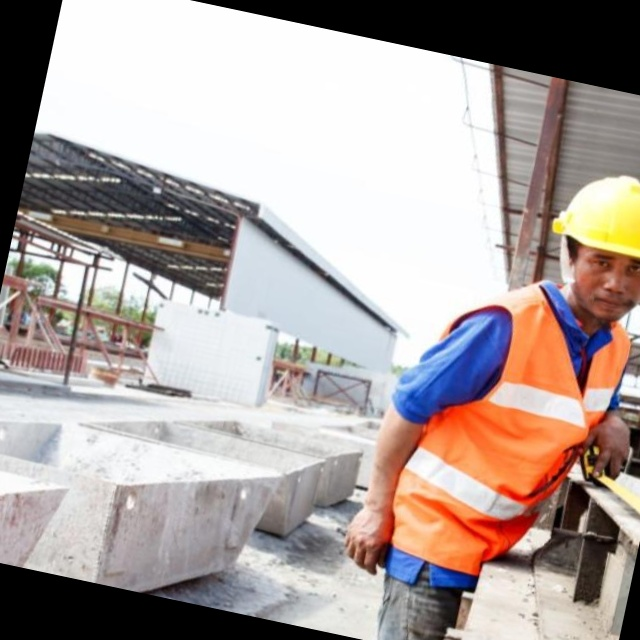Con_Chaleco: (372, 260, 640, 595)
